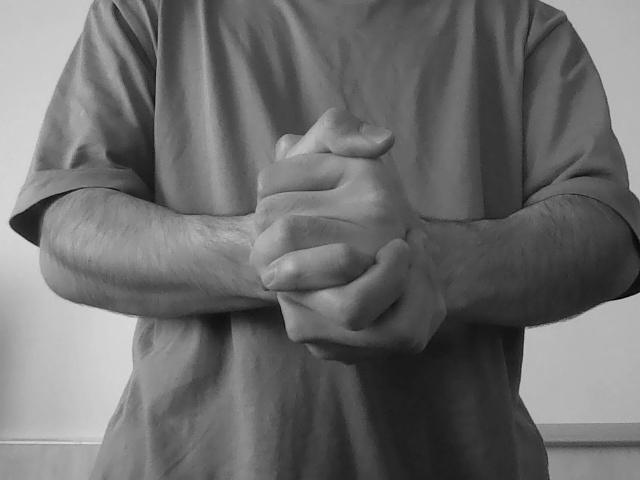friend: (243, 102, 453, 378)
